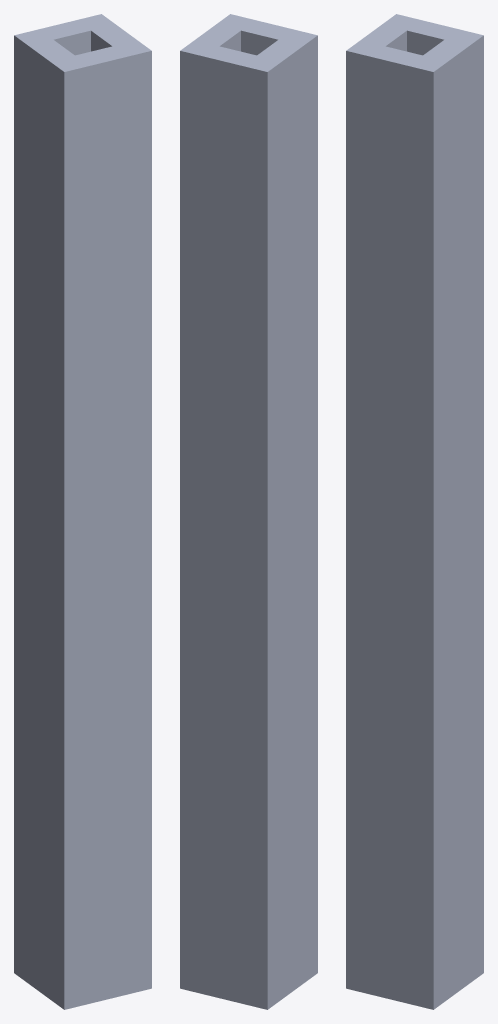
The picture shows the model from 3 angles, left to right: view 1: azimuth 30°, elevation 25°; view 2: azimuth 150°, elevation 25°; view 3: azimuth 330°, elevation 25°; orthographic projection.
Parts seen in each view (by area): view 1: Mesh_Mesh_head_geo.001_lambert2SG.001; view 2: Mesh_Mesh_head_geo.001_lambert2SG.001; view 3: Mesh_Mesh_head_geo.001_lambert2SG.001.
Part boxes in pixels (<box>): Mesh_Mesh_head_geo.001_lambert2SG.001: <box>14,14,151,1009</box>; Mesh_Mesh_head_geo.001_lambert2SG.001: <box>180,14,317,1009</box>; Mesh_Mesh_head_geo.001_lambert2SG.001: <box>346,14,483,1009</box>.
Size of the model in its own units: 0.195 by 2 by 0.194.
